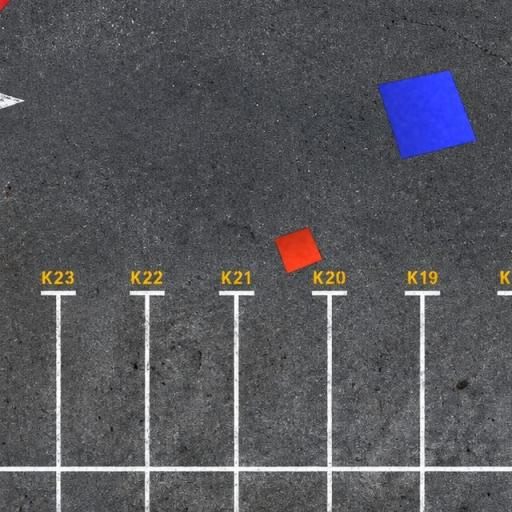BLUE_SQUARE: (376, 70, 478, 160)
RED_SQUARE: (274, 226, 323, 274)
